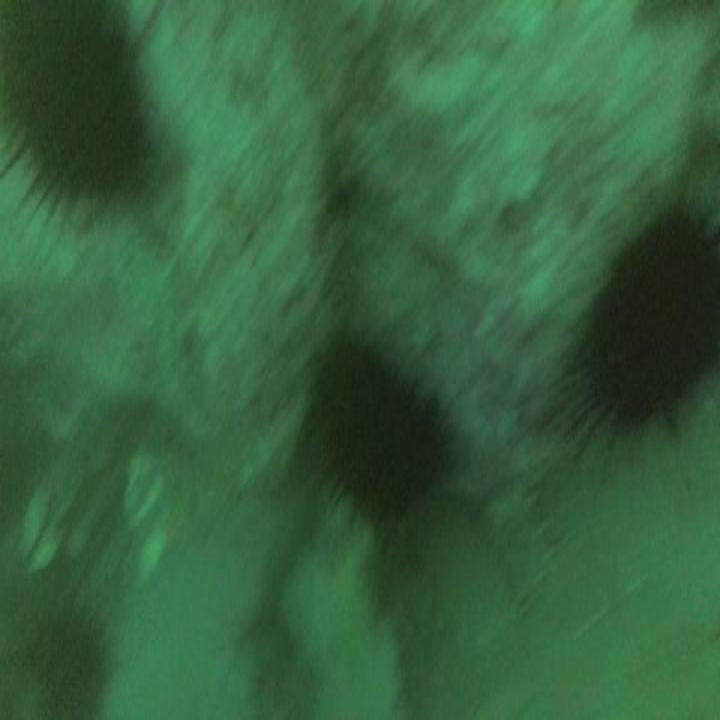echinus: (536, 188, 720, 466), (0, 0, 176, 245), (317, 325, 453, 546), (17, 576, 128, 720)
